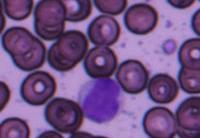M: (80, 76, 125, 124)
